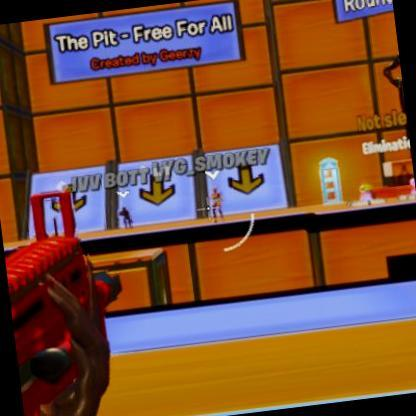person: (207, 182, 223, 218), (118, 203, 134, 232)
